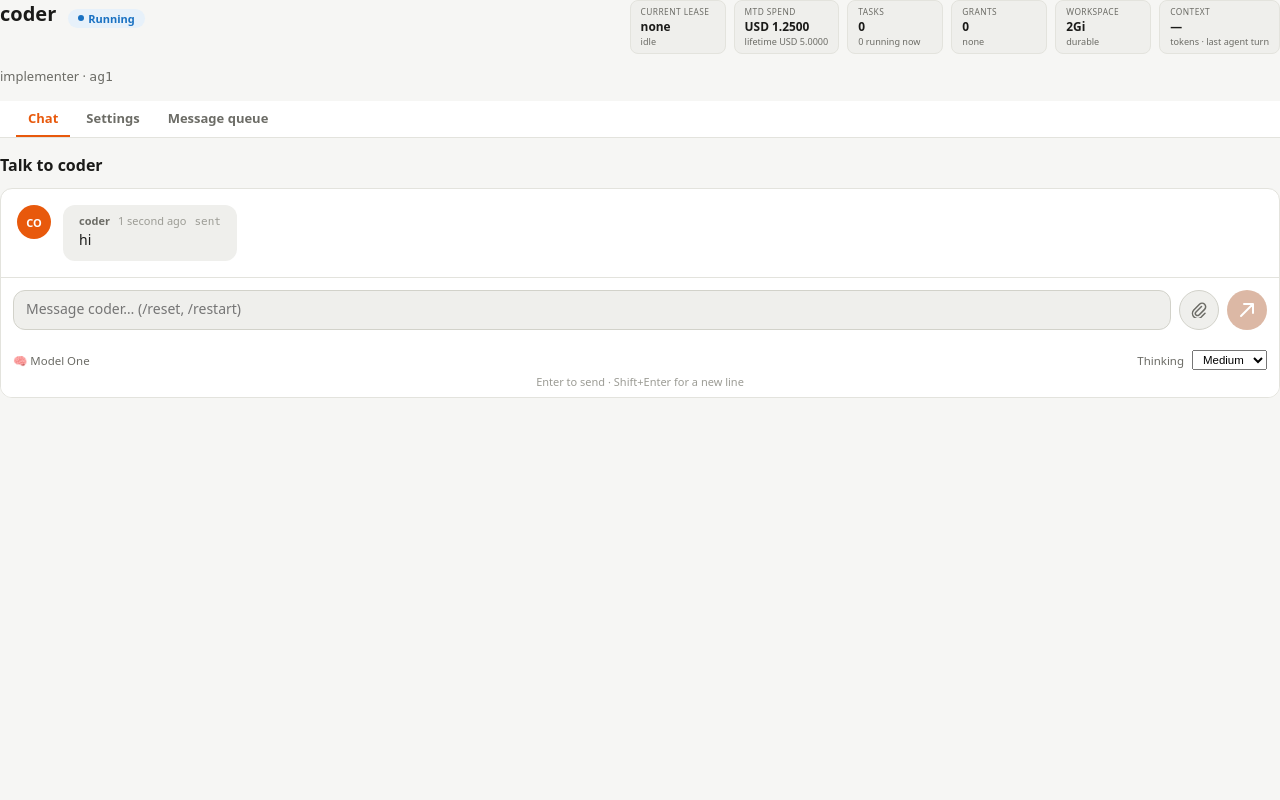
Test: chat thread › reset chat archives via POST and shows the note
Step 1. Type "/reset" into the text box with placeholder "Message coder… (/reset, /restart)" → x=592, y=310, box [13,290,1171,330]
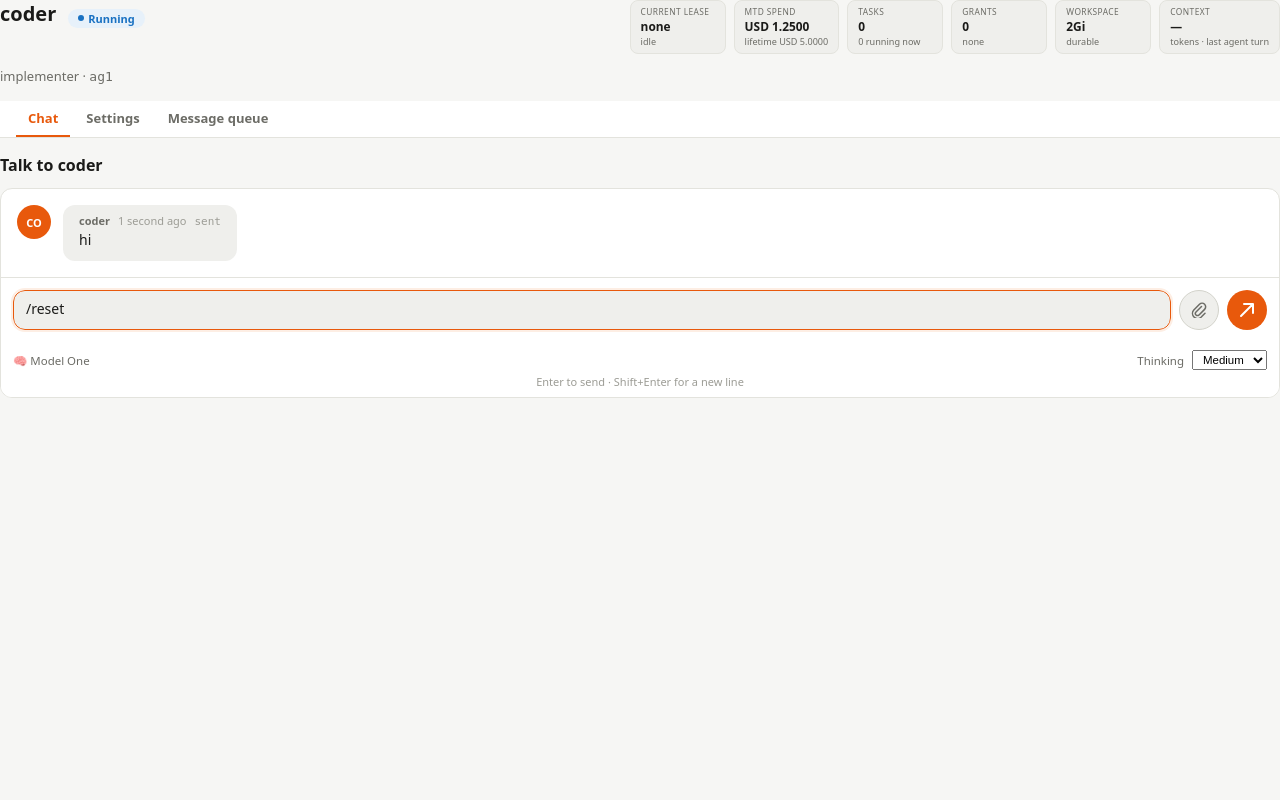
Step 2. Press Enter
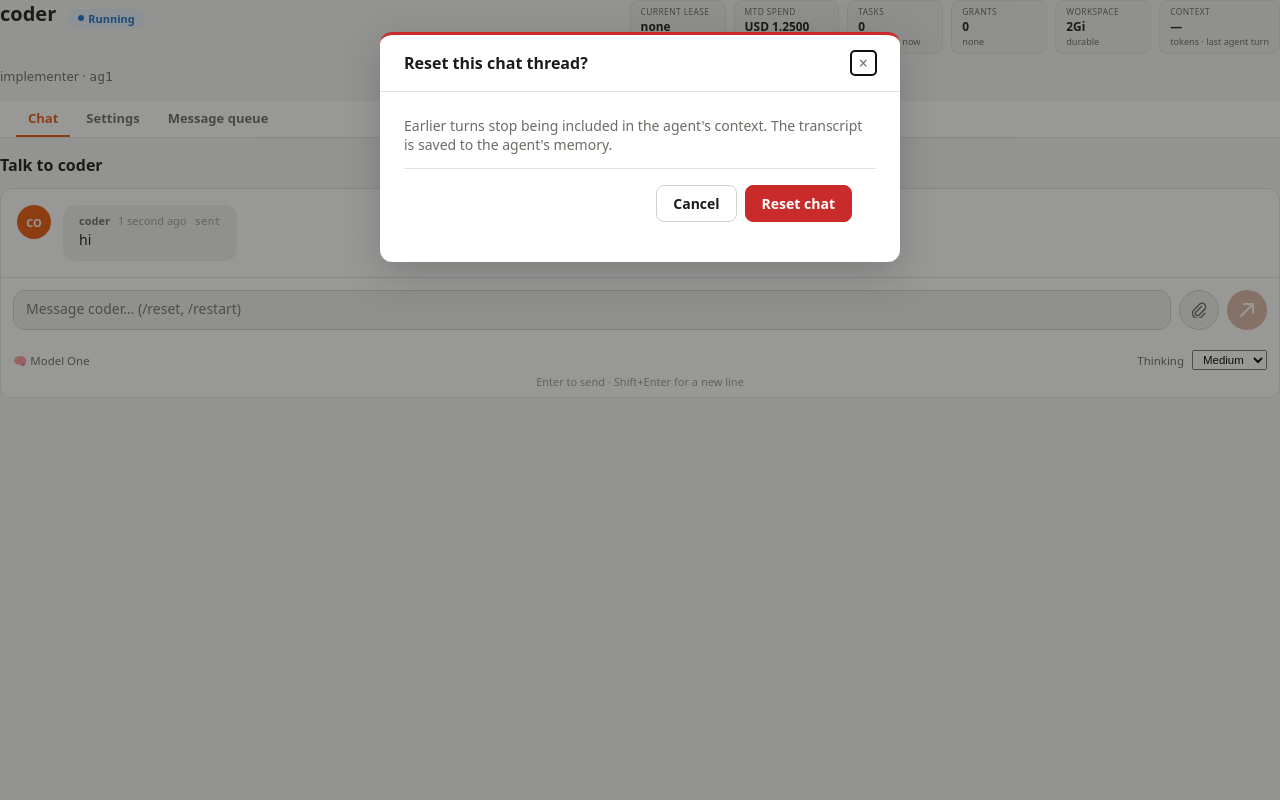
Step 3. Click the button "Reset chat" → x=798, y=204, box [745,185,852,222]
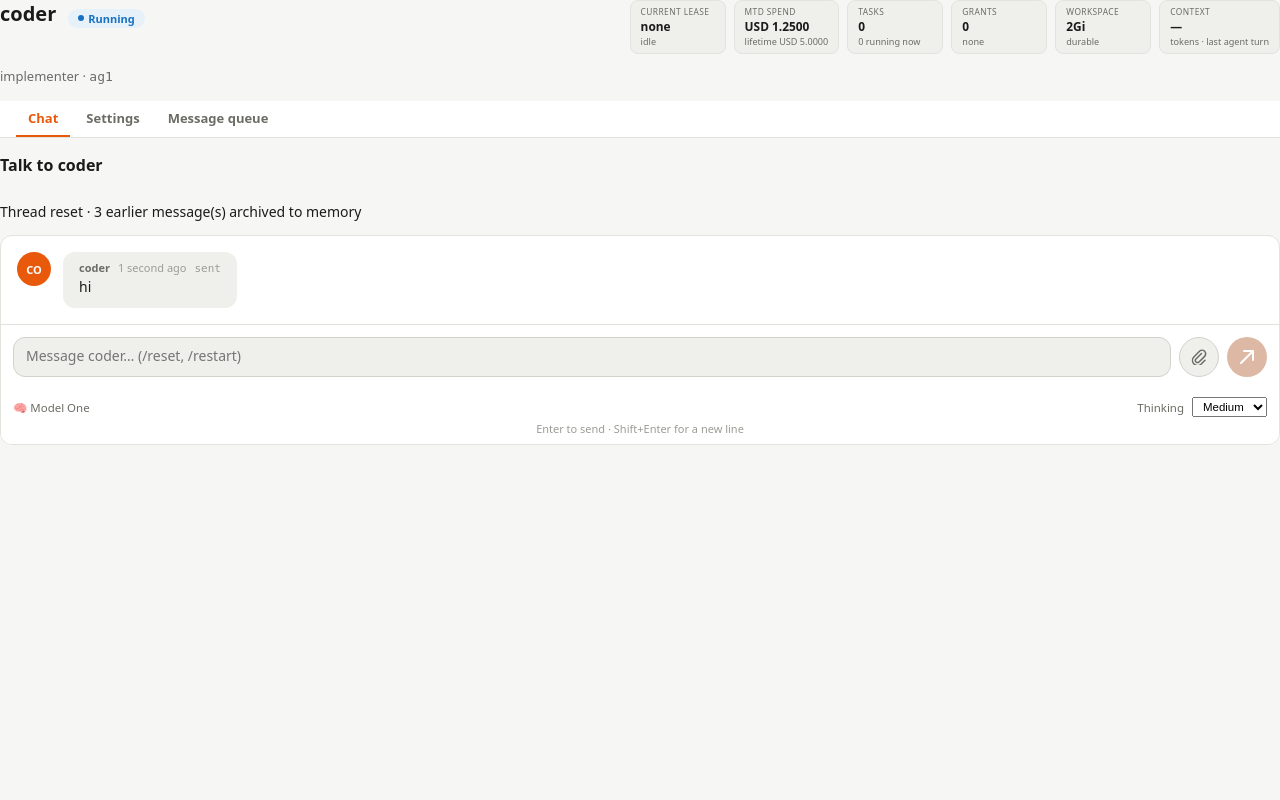
Expected: the text "Thread reset · 3 earlier message(s) archived to memory" is shown, [0,202,362,221]
